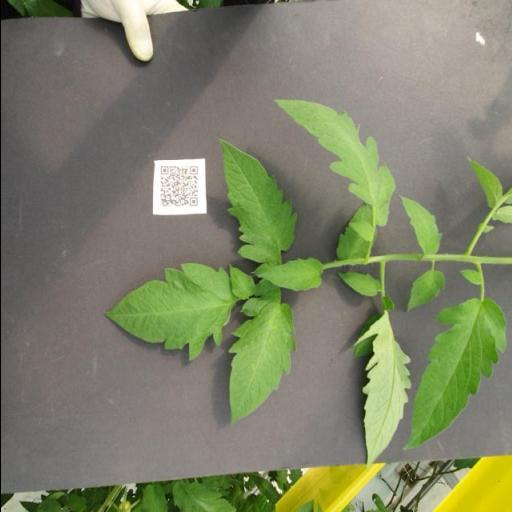Healthy: (272, 100, 396, 242), (400, 298, 507, 452), (101, 262, 237, 360), (225, 278, 296, 428), (216, 138, 296, 264), (398, 194, 442, 254), (256, 256, 324, 292), (405, 270, 444, 312), (336, 270, 382, 298), (228, 265, 256, 300)
